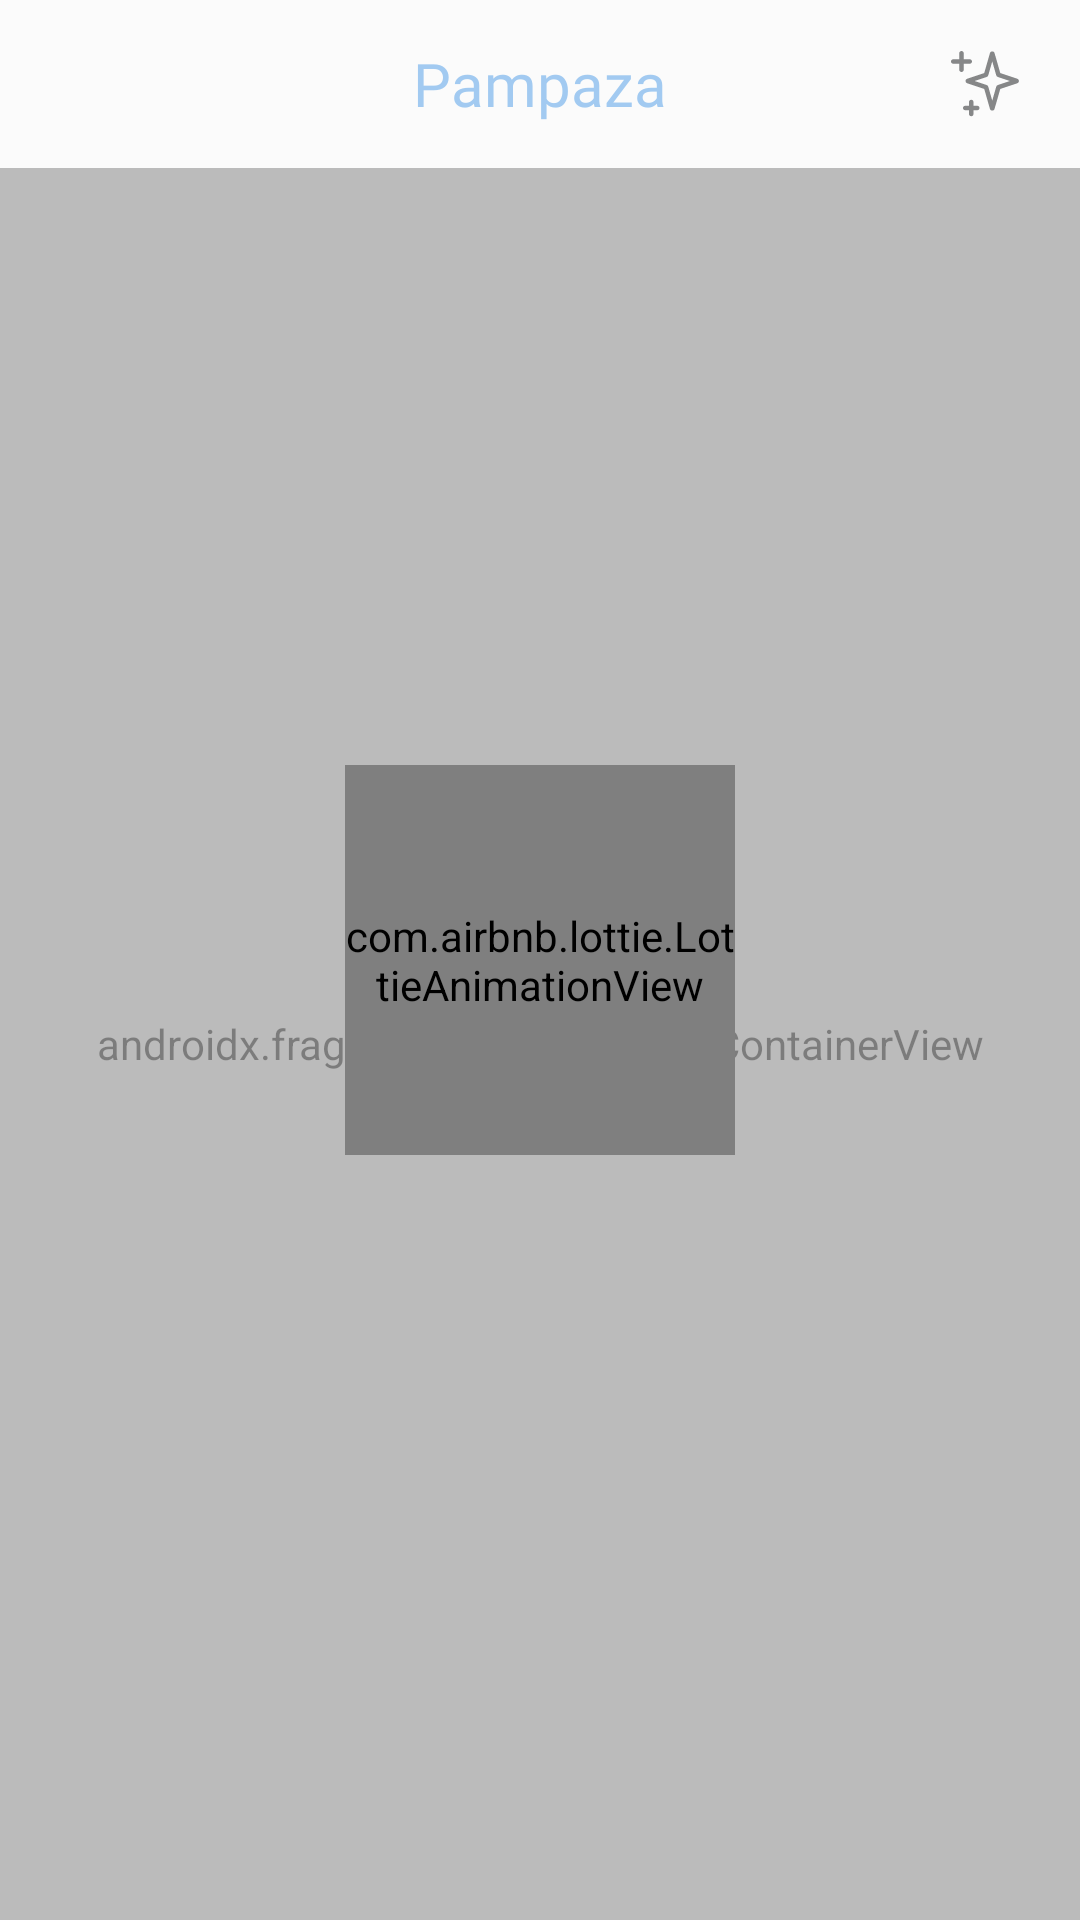

Point at icon controls on the screen. Image size 1080px×1920px, points as [x,y].
feature: [985,83]
